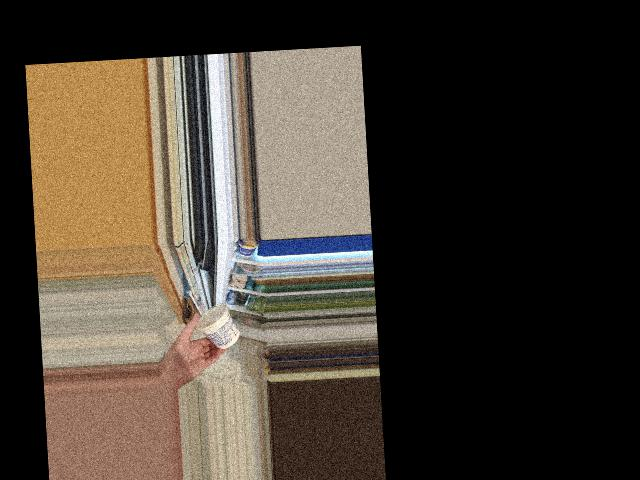cotage: (195, 301, 238, 343)
